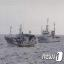fishing boat: (2, 27, 38, 48), (36, 19, 62, 44)
